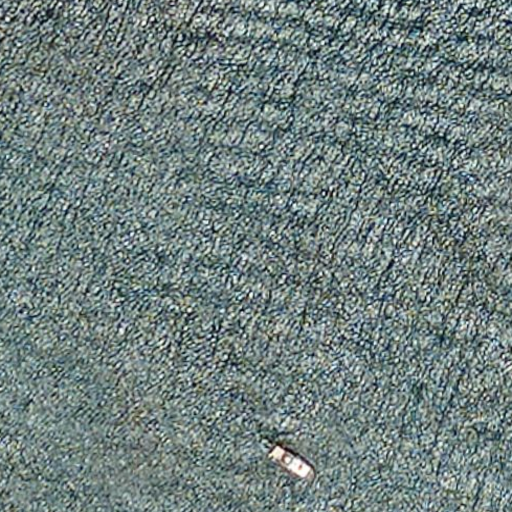ship: (264, 442, 317, 487)
